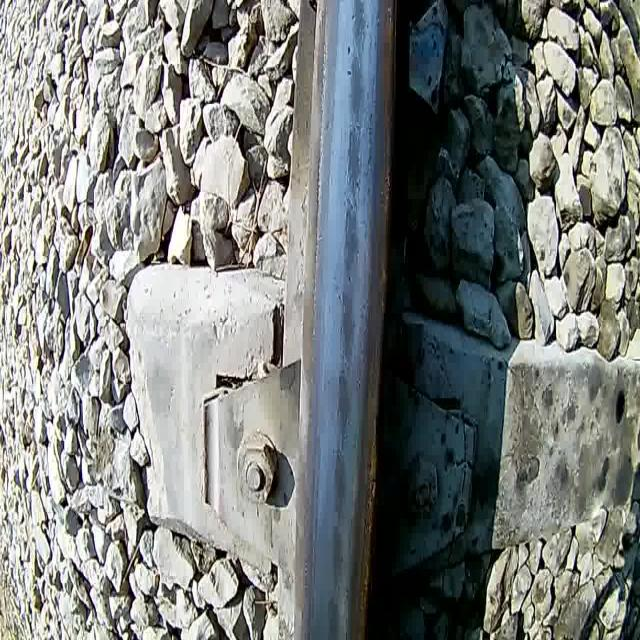Cracks: (343, 181, 362, 245), (330, 407, 350, 461), (366, 72, 376, 176), (349, 25, 366, 73), (344, 126, 354, 186), (375, 1, 383, 75), (337, 287, 346, 316), (337, 324, 345, 354), (344, 602, 349, 640)
Squats: (340, 193, 362, 281), (342, 118, 366, 193), (336, 286, 356, 371), (344, 54, 368, 118), (333, 371, 354, 443), (345, 0, 371, 54), (328, 520, 346, 596), (331, 444, 349, 516), (323, 593, 342, 640)
